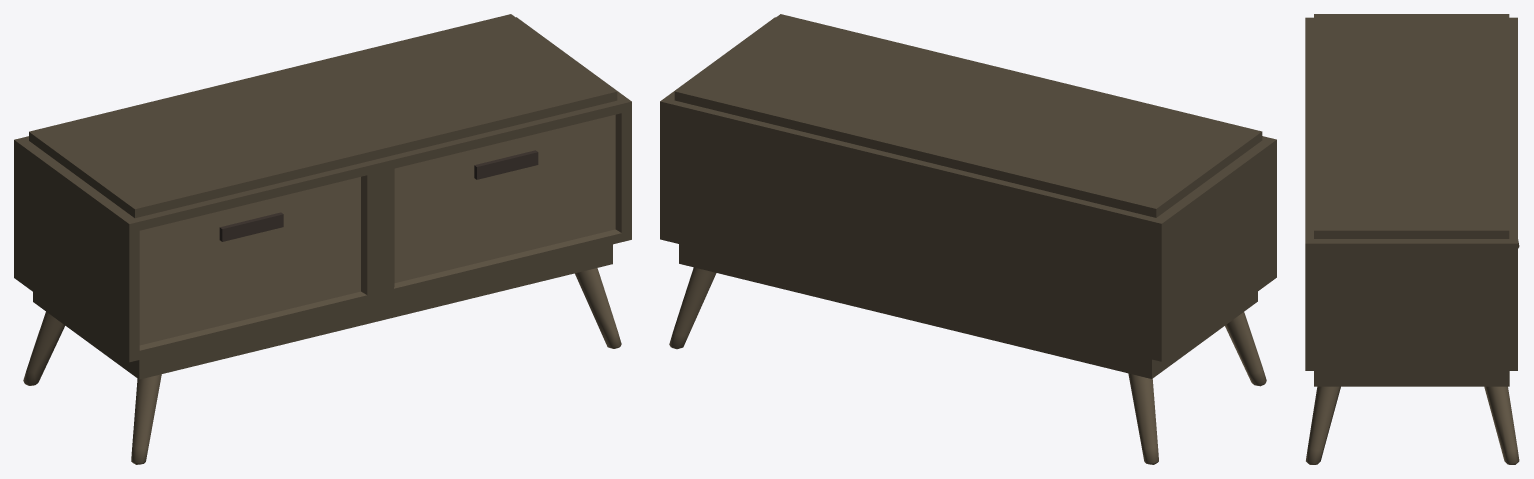
Rendered from quaternius-house-interior-drawer-1.glb.
The picture shows the model from 3 angles, left to right: view 1: azimuth 30°, elevation 25°; view 2: azimuth 150°, elevation 25°; view 3: azimuth 270°, elevation 25°; orthographic projection. The views are drawn at different scales.
Visible parts, largest first — view 1: Drawer_1; view 2: Drawer_1; view 3: Drawer_1.
Boxes of the visible parts, x1,y1,x2,y2 form: Drawer_1: (14,14,631,464); Drawer_1: (660,14,1276,464); Drawer_1: (1305,14,1519,464).
Size of the model in its own units: 2.79 by 1.35 by 1.12.
